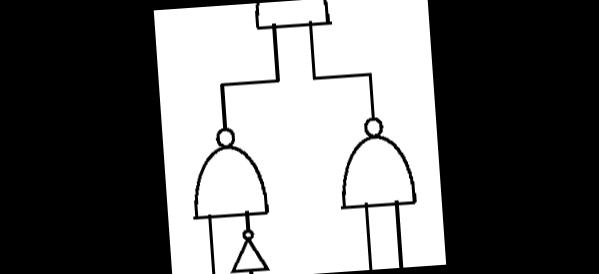nand: (328, 108, 420, 214), (182, 119, 273, 223), (248, 0, 335, 33)
not: (224, 224, 274, 274)
